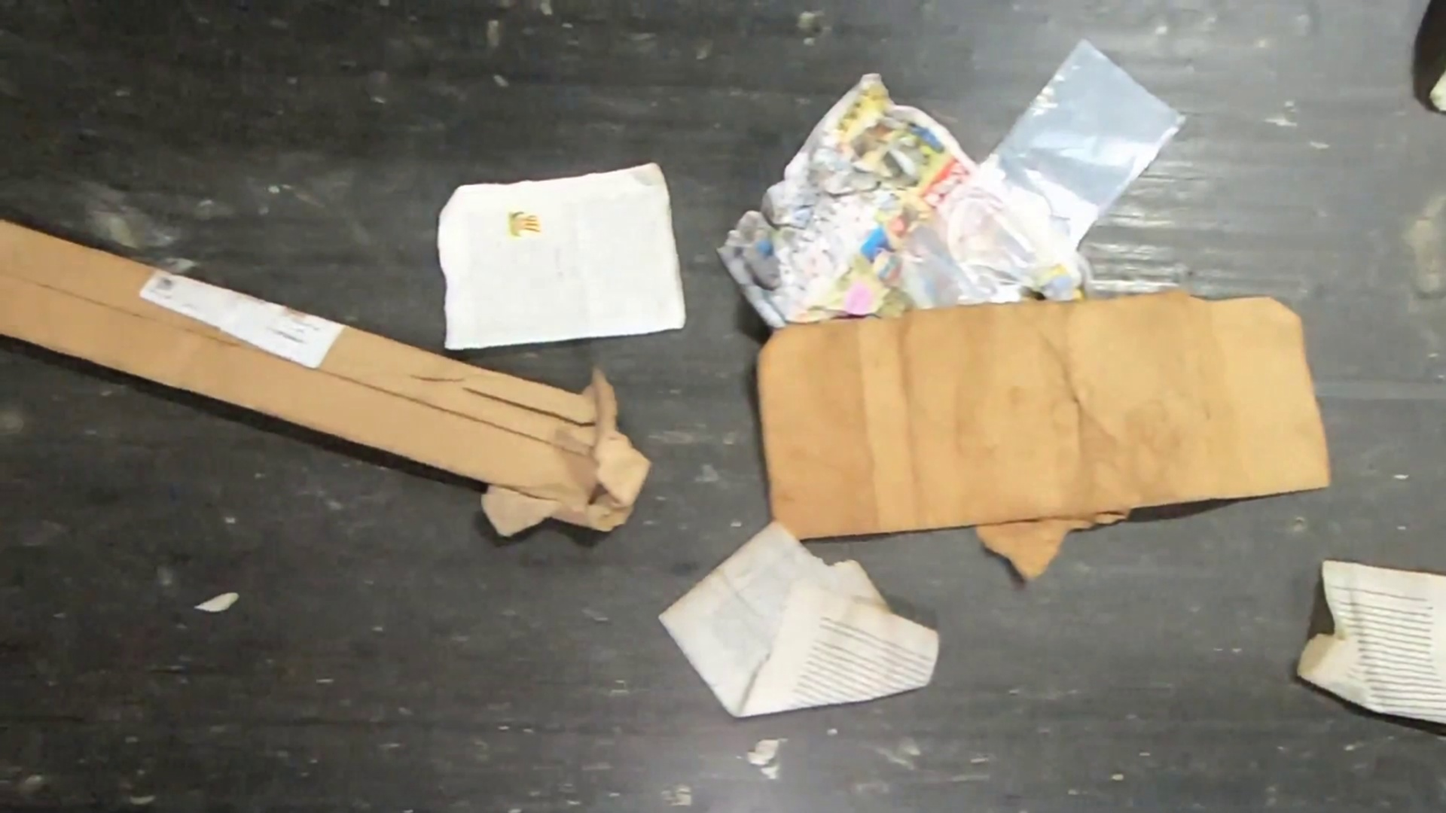cardboard: (0, 217, 657, 540), (753, 284, 1334, 588)
plastic: (878, 32, 1191, 309)
